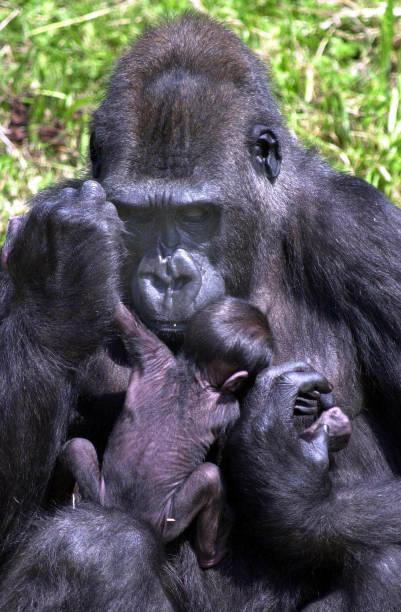gorille_Autres: (2, 0, 401, 597)
